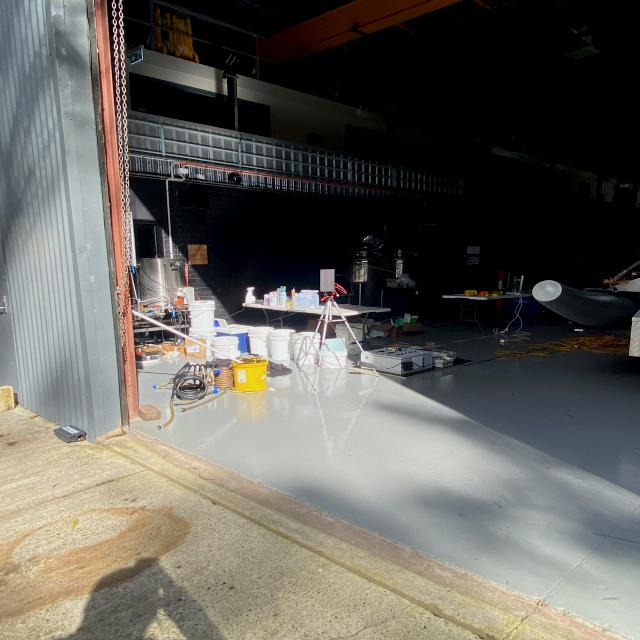matrix: (319, 268, 335, 293)
